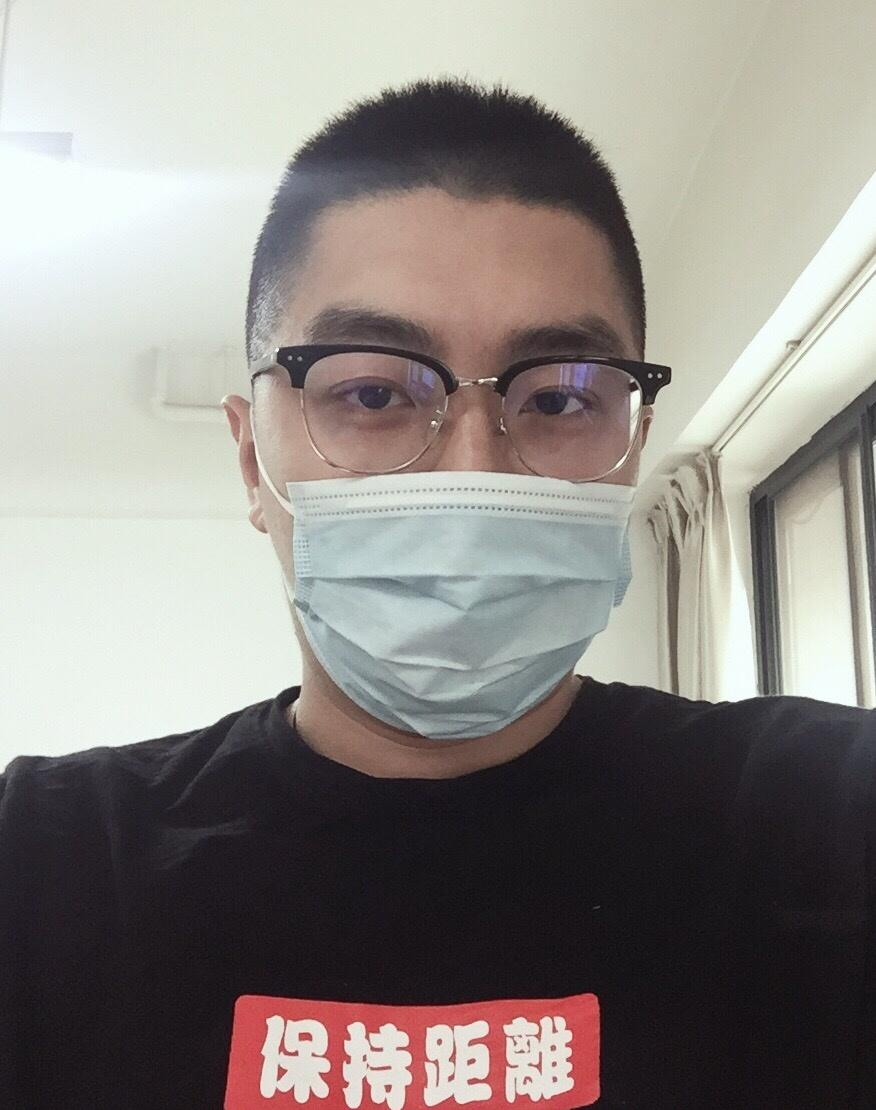Mask: (254, 313, 664, 723)
